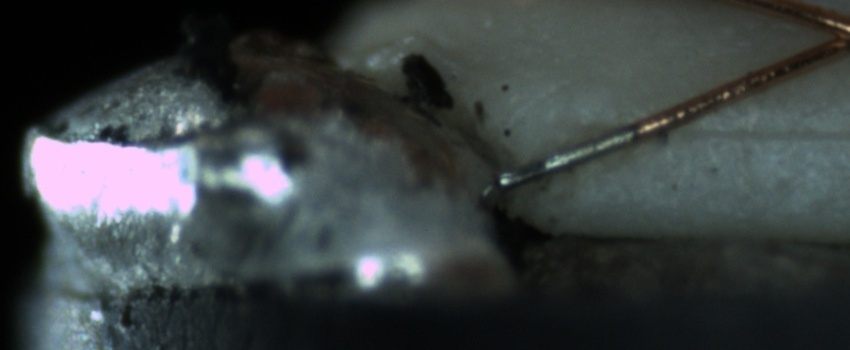CL: (798, 5, 849, 63)
DL: (667, 96, 847, 164)
TS: (493, 124, 636, 192)
